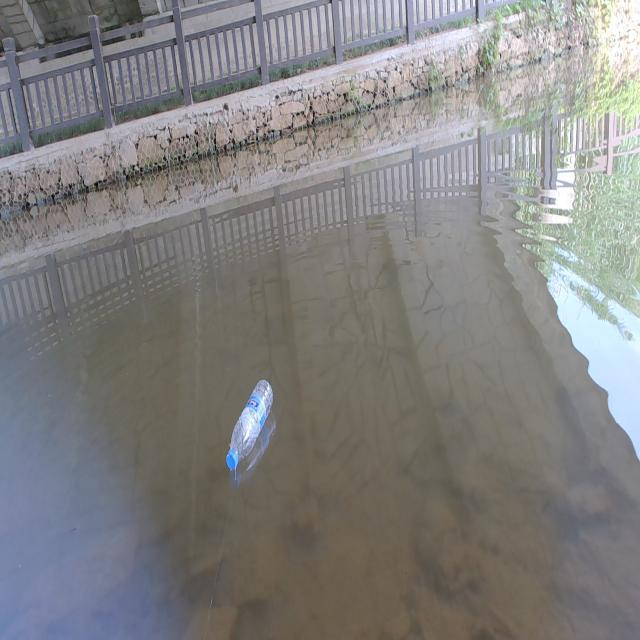bottle: (214, 363, 292, 492)
